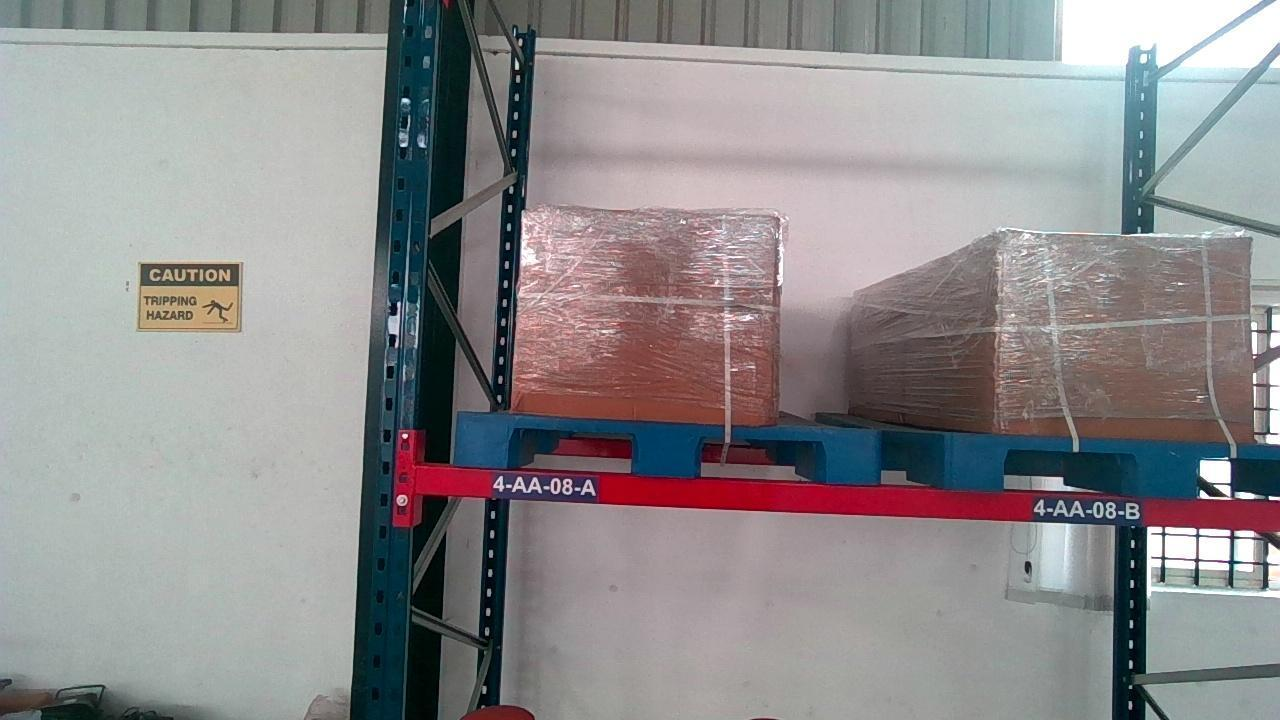h_rack: (401, 463, 1280, 532)
small_pallet: (451, 419, 875, 476), (953, 434, 1280, 493)
